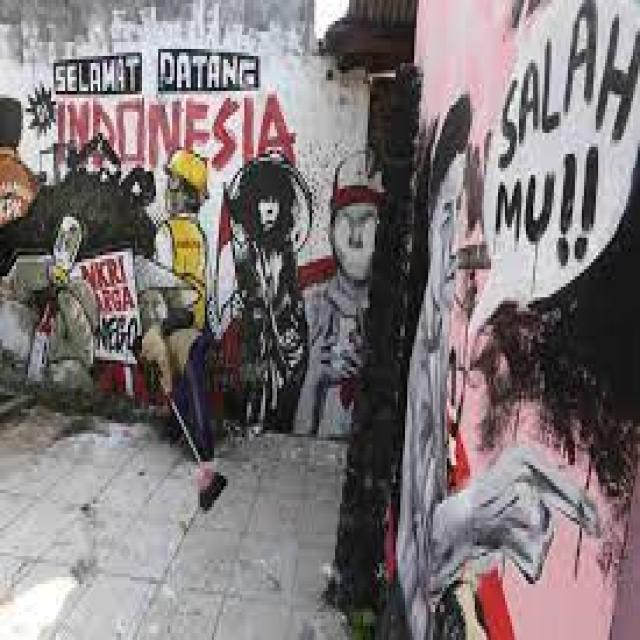-: (395, 0, 640, 636), (1, 49, 384, 437)
